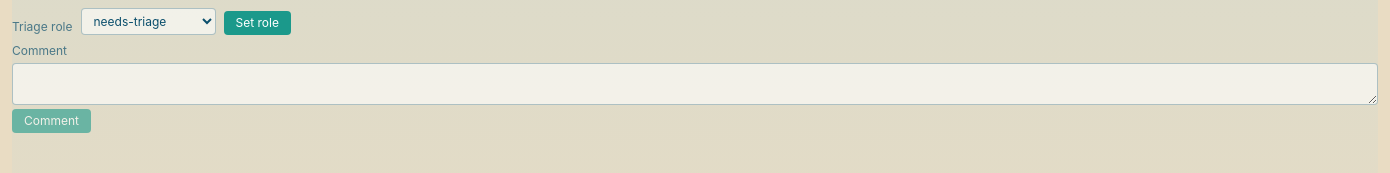
Scenario: IssueTriageEditor › posts a comment from the UI
Type "On it." into the text box labelled "Comment".
click(695, 84); type("On it.")  # box [12,63,1378,105]
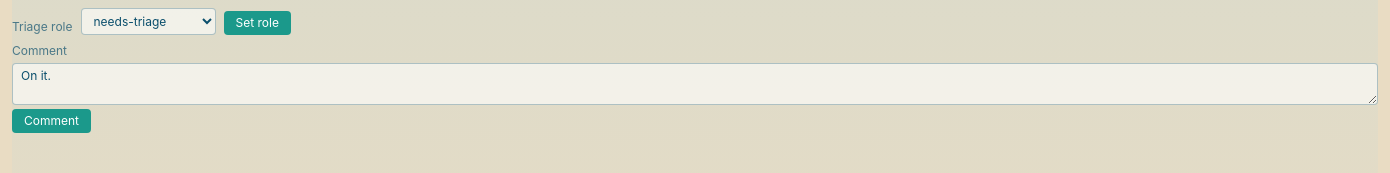
Click the button "Comment".
click(52, 121)  # box [12,109,91,133]
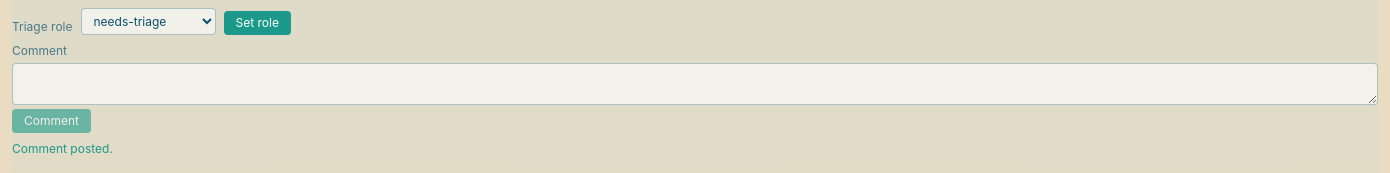
expect the text "Comment posted." is shown: met, box [12,141,113,156]
